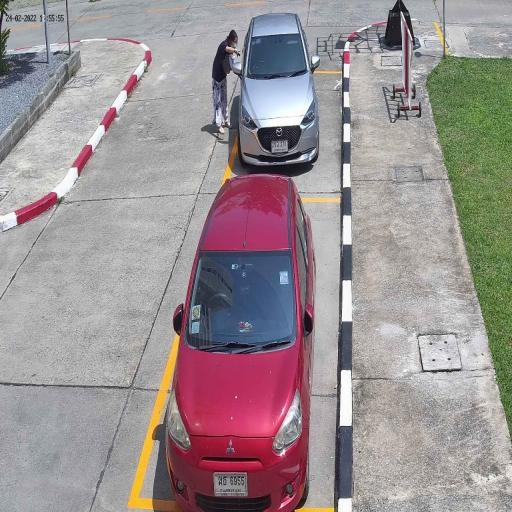car: (167, 176, 314, 512), (239, 13, 318, 166)
